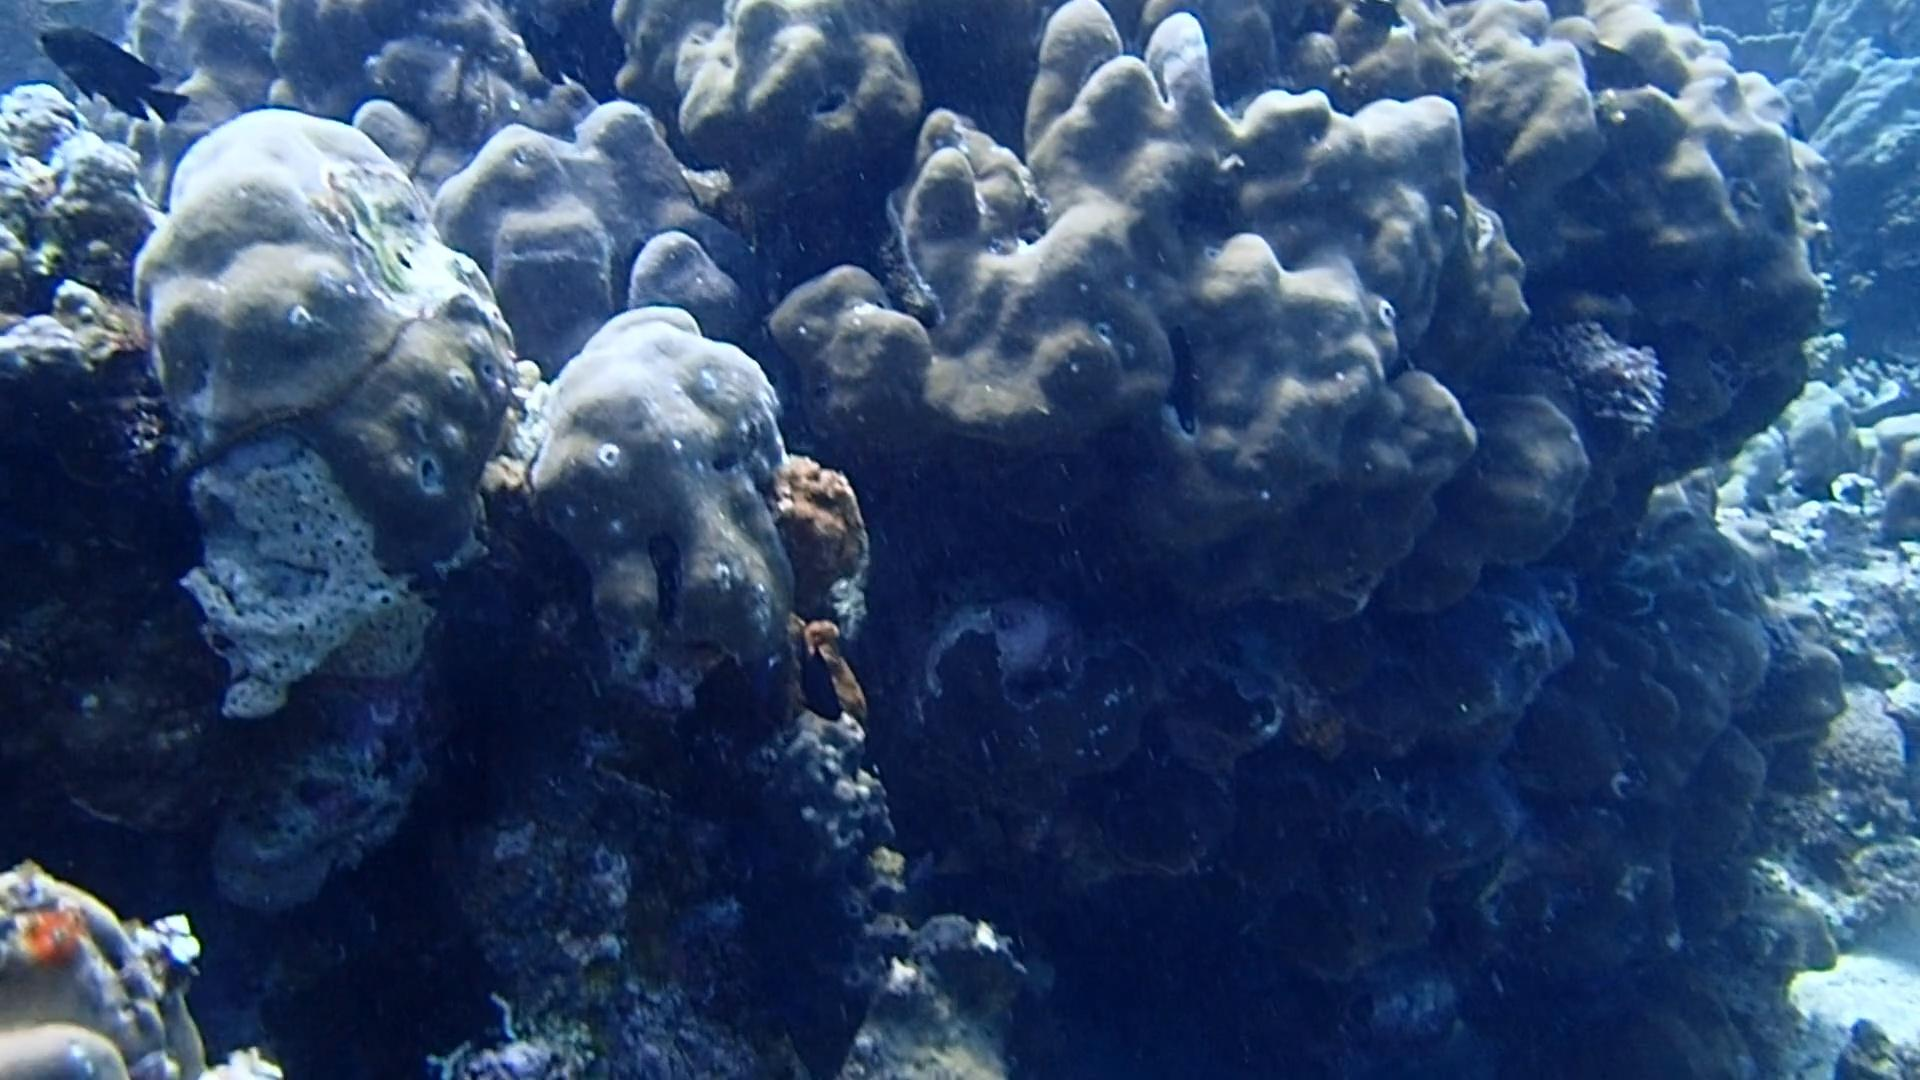Dark Fish: (30, 11, 196, 136), (782, 629, 865, 736), (1571, 33, 1662, 103)
